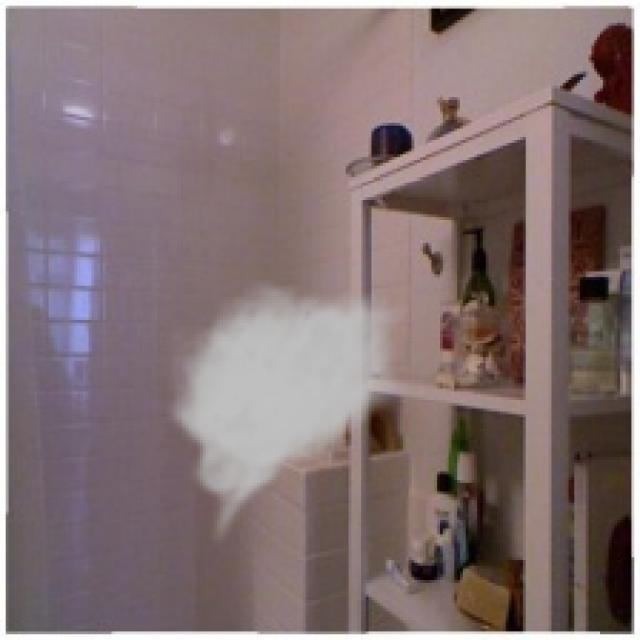smoke: (163, 280, 411, 549)
